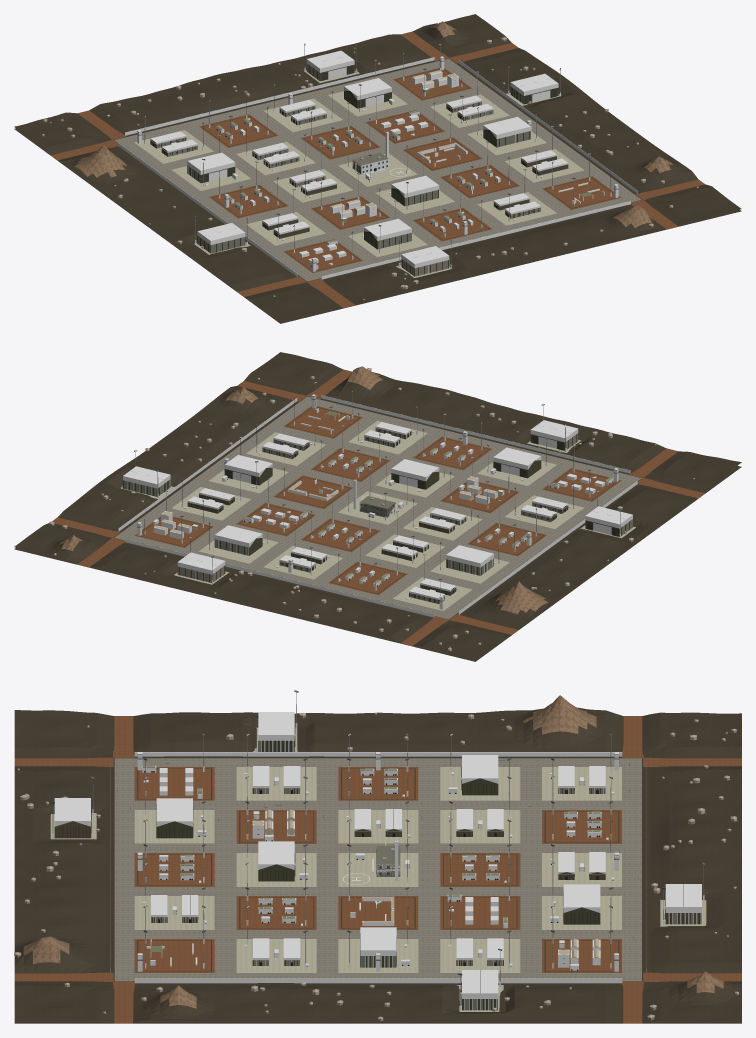
Rendered from map_military.glb.
3 views of the same model, one above another, from view 1: azimuth 30°, elevation 25°; view 2: azimuth 150°, elevation 25°; view 3: azimuth 270°, elevation 25° (orthographic). The views are drawn at different scales.
Parts seen in each view (by area): view 1: Ground_outer, Ground_road, Ground_dirt, Ground_pad, Buildings, Ground_sand, Ground_track, Lights, COL_001, Rocks, COL_002, COL_261 (+11 smaller); view 2: Ground_outer, Ground_road, Ground_dirt, Ground_pad, Buildings, Ground_sand, Ground_track, Lights, COL_002, Rocks, COL_001, COL_060 (+11 smaller); view 3: Ground_outer, Ground_road, Ground_pad, Ground_dirt, Buildings, Ground_track, Ground_sand, Lights, COL_004, COL_003, Rocks, COL_150 (+11 smaller).
Boxes of the visible parts, box(x1,y1,x2,y2) form: Ground_outer: box(14, 14, 741, 318); Ground_road: box(114, 58, 641, 281); Ground_dirt: box(199, 68, 621, 272); Ground_pad: box(134, 70, 583, 277); Buildings: box(150, 63, 568, 276); Ground_sand: box(14, 69, 741, 323); Ground_track: box(50, 31, 704, 308); Lights: box(144, 43, 611, 264); COL_001: box(125, 57, 434, 135); Rocks: box(41, 23, 698, 300); COL_002: box(321, 201, 630, 279); COL_261: box(401, 246, 449, 276); Ground_outer: box(14, 352, 741, 659); Ground_road: box(114, 396, 641, 619); Ground_dirt: box(134, 406, 621, 595); Ground_pad: box(120, 420, 635, 610); Buildings: box(123, 427, 632, 603); Ground_sand: box(14, 407, 741, 661); Ground_track: box(52, 369, 705, 646); Lights: box(134, 382, 621, 595); COL_002: box(321, 395, 630, 473); Rocks: box(49, 368, 694, 651); COL_001: box(125, 539, 434, 617); COL_060: box(446, 545, 493, 575); Ground_outer: box(14, 695, 741, 1023); Ground_road: box(114, 758, 641, 981); Ground_pad: box(50, 727, 706, 1011); Ground_dirt: box(134, 767, 621, 972); Buildings: box(54, 724, 701, 1010); Ground_track: box(14, 716, 741, 1023); Ground_sand: box(14, 768, 741, 1023); Lights: box(50, 690, 705, 1006); COL_004: box(134, 978, 622, 983); COL_003: box(134, 752, 622, 756); Rocks: box(14, 712, 739, 1021); COL_150: box(360, 927, 396, 967).
Bounding box in the file's own units: 401 × 25.64 × 400.
34 materials, 12 textured.
